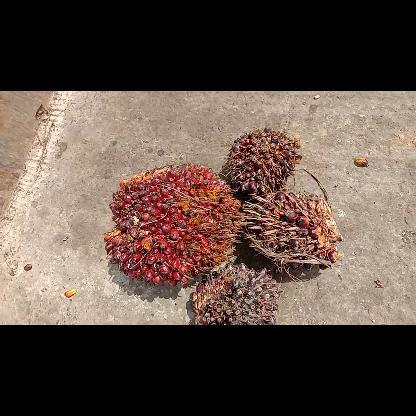TBS abnormal: (242, 189, 344, 273), (188, 258, 284, 324), (224, 126, 304, 198)
TBS masak: (100, 160, 244, 290)
